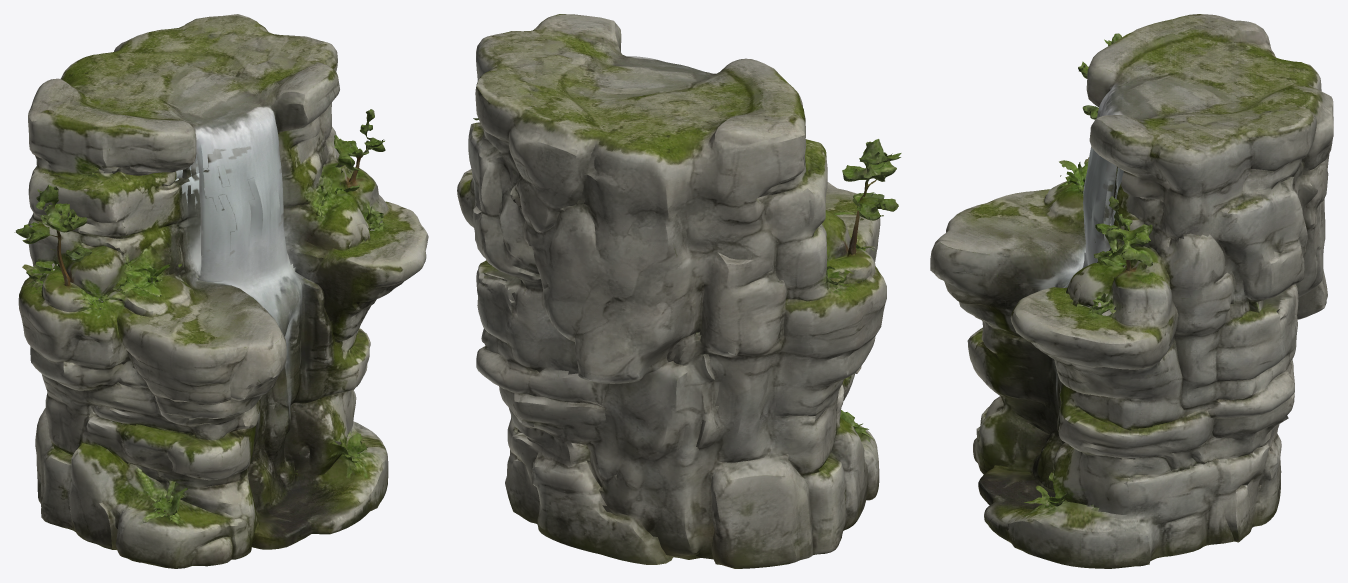
Rendered from veilfall_cascade_tier.glb.
The picture shows the model from 3 angles, left to right: view 1: azimuth 30°, elevation 25°; view 2: azimuth 150°, elevation 25°; view 3: azimuth 270°, elevation 25°; orthographic projection. The views are drawn at different scales.
Visible parts, largest first — view 1: Mesh_0; view 2: Mesh_0; view 3: Mesh_0.
Boxes of the visible parts, <box> form: Mesh_0: <box>14,14,428,568</box>; Mesh_0: <box>457,14,901,568</box>; Mesh_0: <box>930,14,1333,568</box>.
Size of the model in its own units: 1.87 by 1.84 by 1.61.
Materials: 1 (1 with a texture image).
